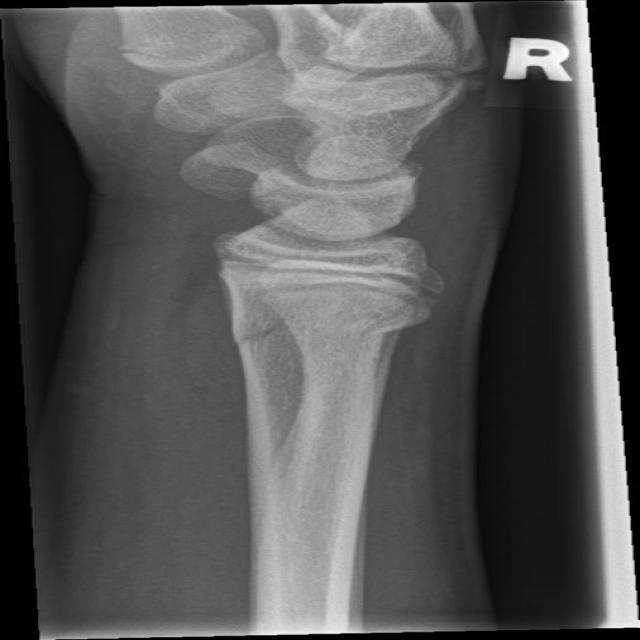fracture: (193, 237, 473, 349)
